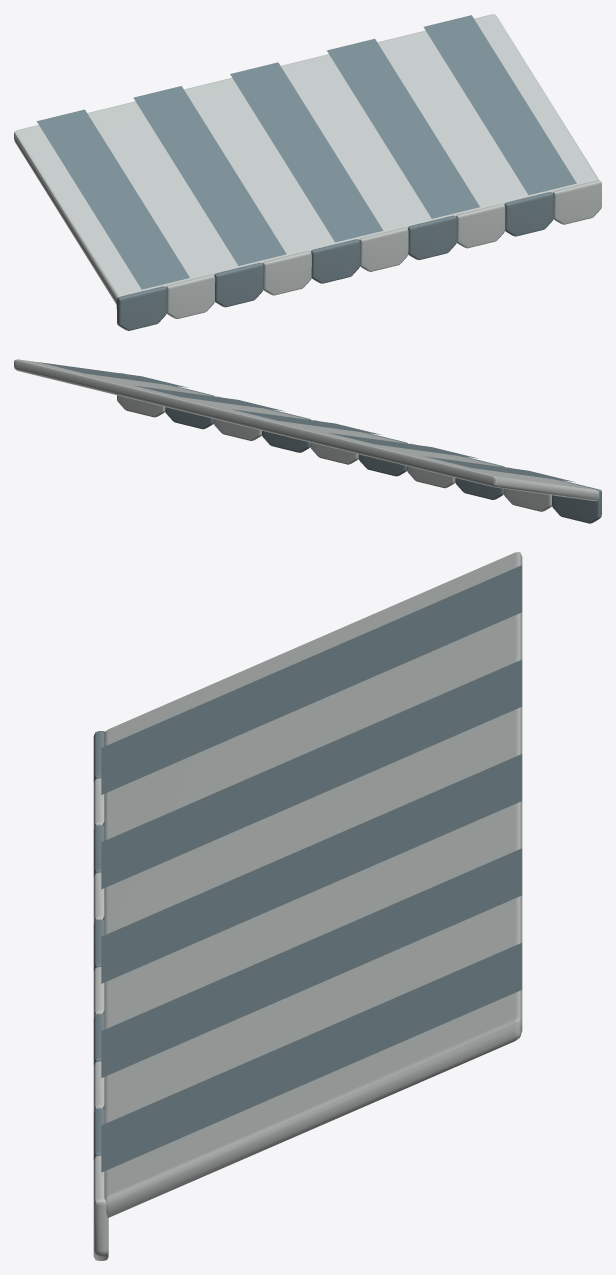
File: awning.glb
3 renders of one model, top to bottom at view 1: azimuth 30°, elevation 25°; view 2: azimuth 150°, elevation 25°; view 3: azimuth 270°, elevation 25°, orthographic. The views are drawn at different scales.
Visible parts, largest first — view 1: sloping_canopy, canopy_stripe.003, canopy_stripe, canopy_stripe.002, canopy_stripe.004, canopy_stripe.001, scalloped_valance, scalloped_valance.004, scalloped_valance.001, scalloped_valance.002, scalloped_valance.006, scalloped_valance.003 (+4 smaller); view 2: sloping_canopy, scalloped_valance, scalloped_valance.001, scalloped_valance.002, scalloped_valance.008, scalloped_valance.004, scalloped_valance.006, canopy_stripe.001, canopy_stripe.002, canopy_stripe.004, canopy_stripe, canopy_stripe.003 (+4 smaller); view 3: sloping_canopy, canopy_stripe, canopy_stripe.004, canopy_stripe.001, canopy_stripe.003, canopy_stripe.002, scalloped_valance.009.
Boxes of the visible parts, <box> form: sloping_canopy: <box>14,14,598,304</box>; canopy_stripe.003: <box>327,38,479,218</box>; canopy_stripe: <box>37,109,189,289</box>; canopy_stripe.002: <box>230,62,383,242</box>; canopy_stripe.004: <box>423,15,576,195</box>; canopy_stripe.001: <box>133,86,286,265</box>; scalloped_valance: <box>116,286,166,330</box>; scalloped_valance.004: <box>311,239,360,283</box>; scalloped_valance.001: <box>166,274,215,318</box>; scalloped_valance.002: <box>214,262,263,307</box>; scalloped_valance.006: <box>407,215,456,259</box>; scalloped_valance.003: <box>262,251,311,295</box>; sloping_canopy: <box>14,359,599,501</box>; scalloped_valance: <box>552,479,601,523</box>; scalloped_valance.001: <box>503,467,551,511</box>; scalloped_valance.002: <box>455,455,504,499</box>; scalloped_valance.008: <box>165,385,214,429</box>; scalloped_valance.004: <box>358,432,407,476</box>; scalloped_valance.006: <box>262,408,310,452</box>; canopy_stripe.001: <box>329,433,478,458</box>; canopy_stripe.002: <box>232,409,381,434</box>; canopy_stripe.004: <box>38,362,188,387</box>; canopy_stripe: <box>426,456,575,482</box>; canopy_stripe.003: <box>135,385,284,411</box>; sloping_canopy: <box>103,552,522,1217</box>; canopy_stripe: <box>101,565,522,794</box>; canopy_stripe.004: <box>101,943,522,1172</box>; canopy_stripe.001: <box>101,659,522,889</box>; canopy_stripe.003: <box>101,848,522,1077</box>; canopy_stripe.002: <box>101,754,522,983</box>; scalloped_valance.009: <box>93,1155,108,1260</box>.
Bounding box in the file's own units: 2.6 × 0.662 × 0.9975.
